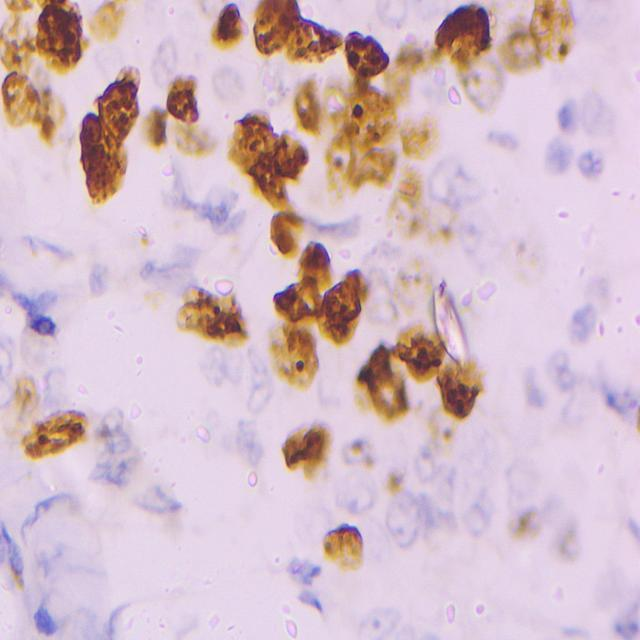Healthy cell: (522, 350, 582, 410), (204, 349, 270, 399), (387, 492, 440, 548), (199, 193, 252, 234), (560, 92, 612, 133), (414, 448, 462, 490), (160, 170, 208, 210), (194, 400, 230, 453), (228, 413, 265, 461), (336, 474, 377, 516), (466, 495, 507, 534), (90, 259, 124, 301), (568, 303, 598, 349), (26, 604, 59, 638), (293, 559, 330, 589), (572, 144, 606, 176), (543, 140, 573, 176), (372, 1, 412, 22), (614, 604, 640, 635), (446, 169, 476, 195)
cancer-cell-QiJm: (226, 108, 283, 208), (178, 285, 258, 345), (357, 343, 417, 419), (276, 419, 345, 485), (79, 116, 128, 208), (433, 282, 482, 374), (524, 0, 584, 71), (33, 0, 87, 77), (393, 33, 451, 102), (266, 325, 324, 392), (440, 4, 500, 66), (24, 406, 89, 463), (326, 268, 369, 348), (511, 233, 556, 307), (597, 370, 639, 442), (352, 64, 395, 134), (393, 166, 427, 254), (100, 63, 143, 132), (397, 321, 449, 378), (136, 487, 188, 541), (402, 104, 444, 170), (290, 11, 340, 66), (459, 214, 506, 270), (356, 240, 398, 302), (253, 0, 296, 59), (496, 18, 530, 92), (20, 319, 65, 374), (17, 232, 81, 270), (34, 84, 72, 148), (424, 201, 465, 260), (119, 439, 166, 489), (204, 0, 247, 53), (4, 69, 38, 134), (343, 28, 391, 74), (455, 68, 500, 116), (352, 139, 394, 190), (148, 39, 194, 84), (86, 408, 133, 452), (390, 260, 438, 303), (267, 210, 303, 266), (3, 370, 32, 439), (173, 116, 218, 160), (425, 403, 467, 449), (328, 526, 366, 575), (293, 240, 333, 285), (294, 79, 326, 134), (6, 553, 45, 598), (306, 215, 368, 242), (87, 0, 127, 41), (295, 273, 329, 321), (278, 129, 310, 179), (506, 460, 540, 507), (166, 73, 200, 119), (325, 83, 356, 133), (507, 506, 545, 546), (126, 222, 162, 263), (550, 524, 588, 562), (481, 124, 526, 156), (328, 130, 350, 193), (144, 100, 172, 149), (1, 33, 38, 70), (6, 0, 39, 40), (345, 438, 379, 476), (273, 282, 302, 326), (210, 68, 238, 106), (139, 282, 163, 318), (219, 232, 249, 260), (382, 467, 406, 493)
